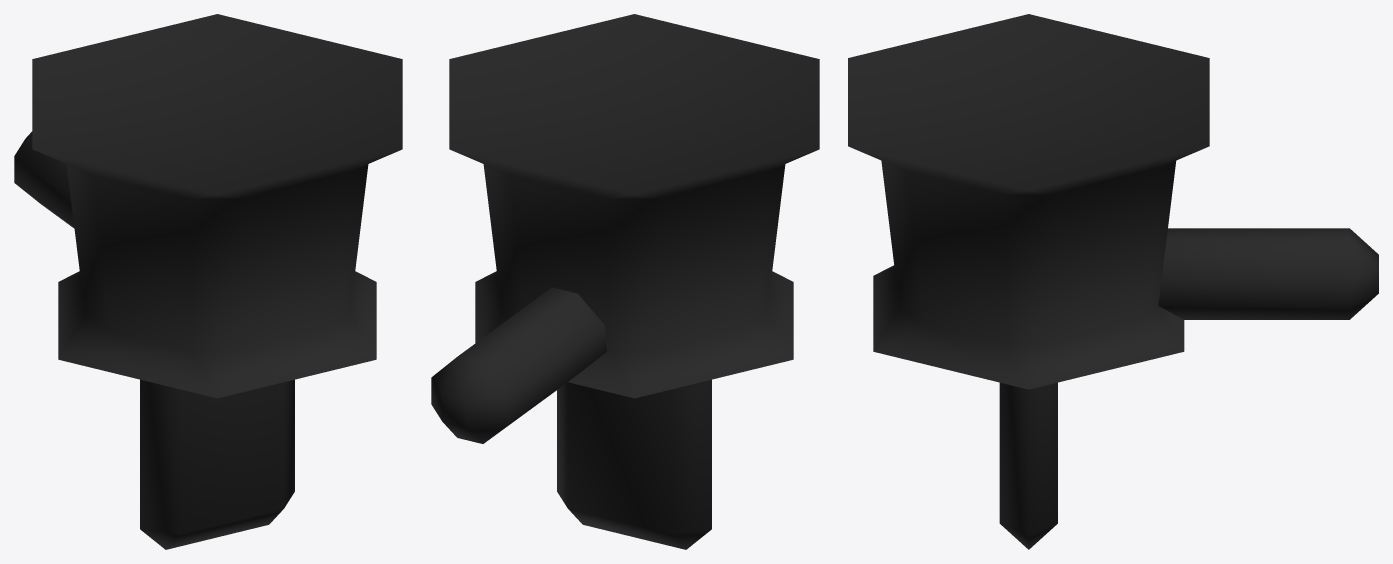
File: wall-sconce.glb
3 renders of one model, left to right at view 1: azimuth 30°, elevation 25°; view 2: azimuth 150°, elevation 25°; view 3: azimuth 270°, elevation 25°, orthographic. The views are drawn at different scales.
Visible parts, largest first — view 1: wall_sconce; view 2: wall_sconce; view 3: wall_sconce.
Boxes of the visible parts, left/top/right/bottom form: wall_sconce: left=14, top=14, right=402, bottom=549; wall_sconce: left=431, top=14, right=819, bottom=549; wall_sconce: left=848, top=14, right=1378, bottom=549.
Size of the model in its own units: 0.1431 by 0.16 by 0.182.
Materials: 1 (1 with a texture image).
